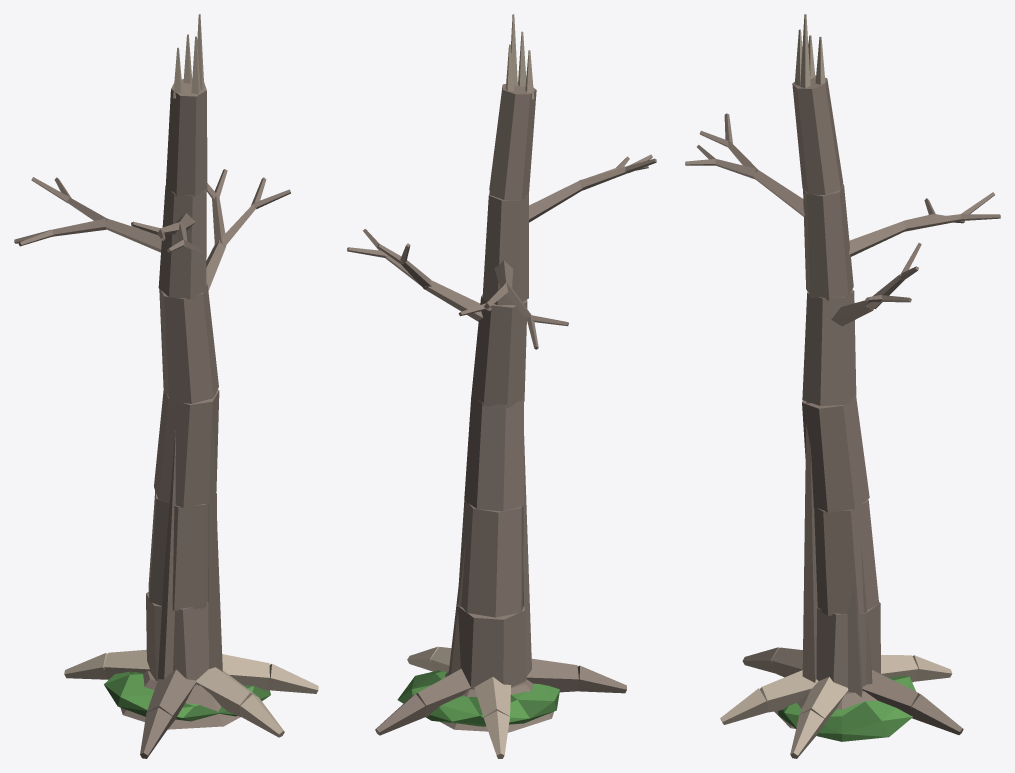
The model's file is tree_snag_c.glb.
The picture shows the model from 3 angles, left to right: view 1: azimuth 30°, elevation 25°; view 2: azimuth 150°, elevation 25°; view 3: azimuth 270°, elevation 25°; orthographic projection. The views are drawn at different scales.
Visible parts, largest first — view 1: TreeSnagC; view 2: TreeSnagC; view 3: TreeSnagC.
Part boxes in pixels (box(x1,y1,x2,y2)): TreeSnagC: box(14, 14, 318, 758); TreeSnagC: box(347, 14, 656, 758); TreeSnagC: box(685, 14, 1000, 758).
Bounding box in the file's own units: 3.65 × 10.14 × 4.2.
